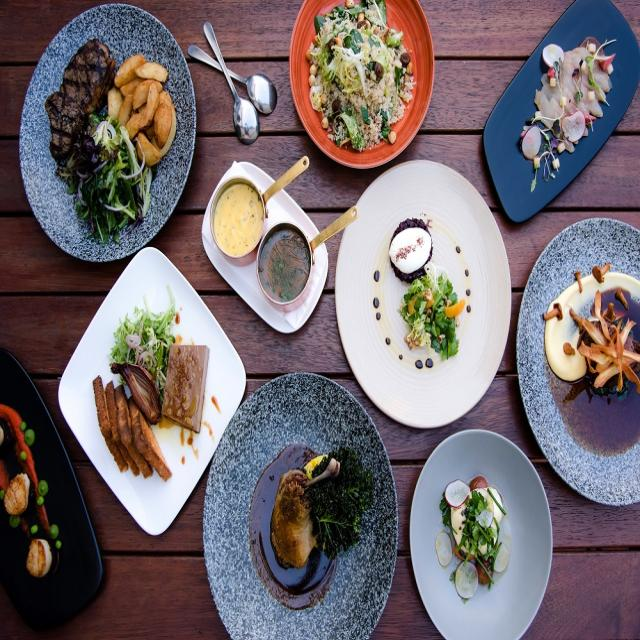bit tet: (19, 0, 186, 253)
ga quay: (230, 385, 386, 633)
khoai tay nghien: (528, 234, 640, 496)
rau cu muoi: (470, 4, 636, 208), (416, 442, 553, 635)
salad: (301, 0, 425, 159)
